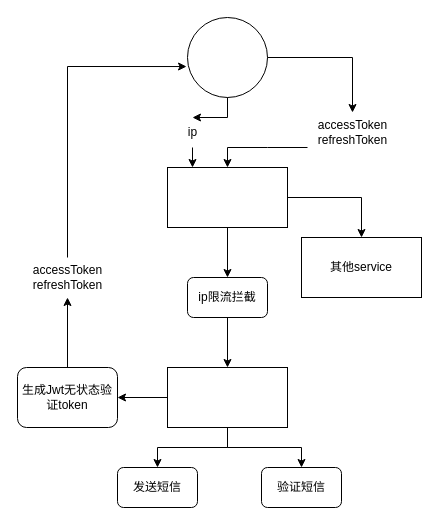
Image size: 439x525. Some labels were removed from this diagram. Here are the shapes that lost their labels. From the top down, the centre of each, then its label:
the point at 227,57: 前端
the point at 227,197: gateway
the point at 227,397: auth-sms-service
